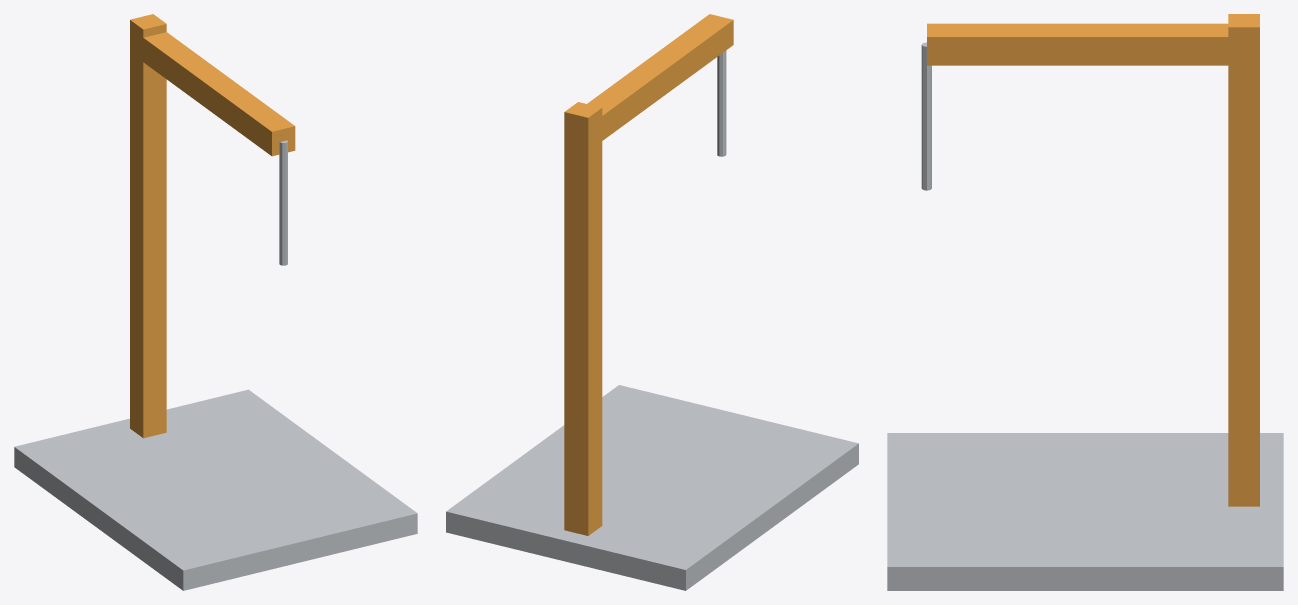
Rendered from mech-hangar-and-battle-frames-engine-hoist-813dbf11__26973.glb.
3 views of the same model, side by side, from view 1: azimuth 30°, elevation 25°; view 2: azimuth 150°, elevation 25°; view 3: azimuth 270°, elevation 25° (orthographic). The views are drawn at different scales.
Visible parts, largest first — view 1: engine-hoist; view 2: engine-hoist; view 3: engine-hoist.
Part boxes in pixels (box(x1,y1,x2,y2)): engine-hoist: box(14, 14, 417, 590); engine-hoist: box(446, 14, 858, 590); engine-hoist: box(887, 14, 1283, 590).
Bounding box in the file's own units: 1.2 × 2.1 × 1.5.
